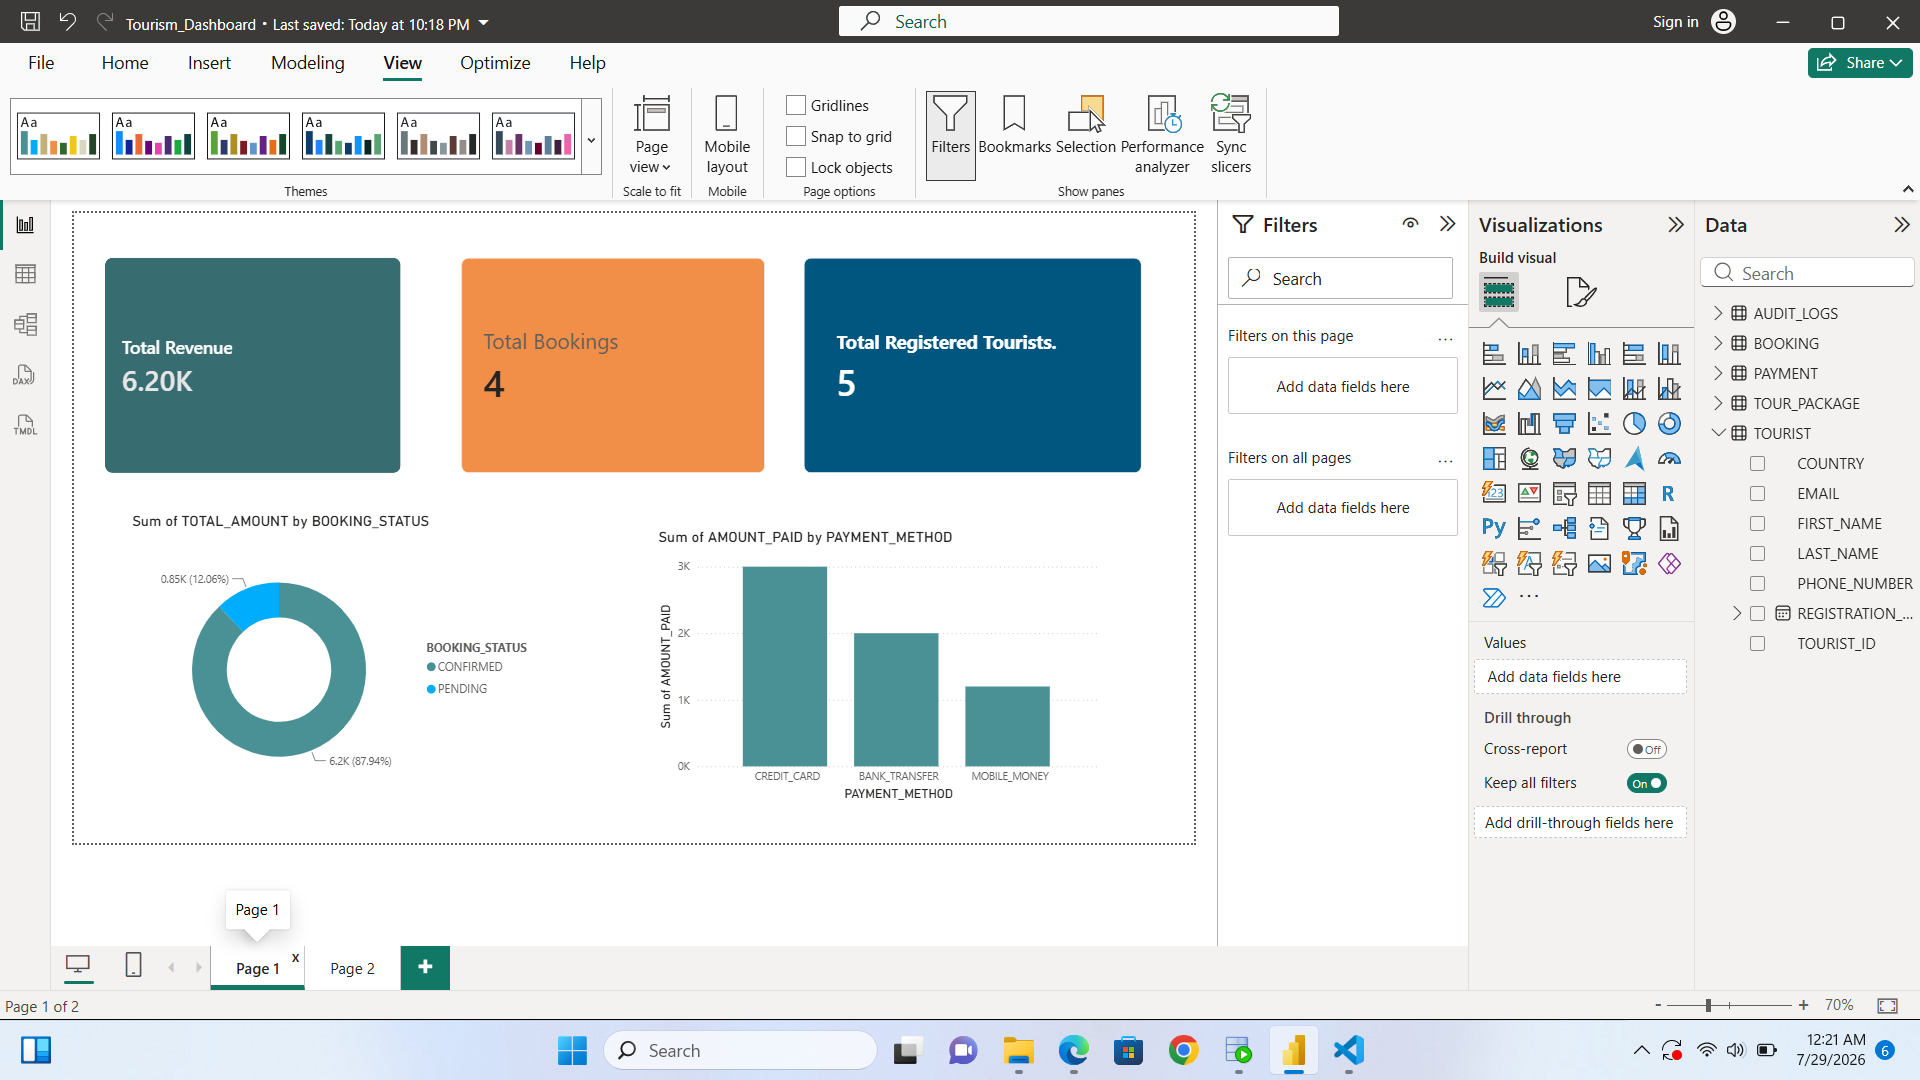

This screenshot's page, from the dashboard's own definition file:
{"tool":"powerbi","page":{"name":"Page 1","canvas":[1280,720],"ordinal":0},"visuals":[{"type":"cardVisual","fields":{"Data":["Sum(PAYMENT.AMOUNT_PAID)"]},"box":[18.6,34.3,372.9,280],"z":0},{"type":"donutChart","fields":{"Category":["BOOKING.BOOKING_STATUS"],"Y":["Sum(BOOKING.TOTAL_AMOUNT)"]},"box":[61.4,341.4,476.2,330.7],"z":1000},{"type":"cardVisual","fields":{"Data":["CountNonNull(BOOKING.BOOKING_ID)"]},"box":[425.7,34.3,381.4,280],"z":2000},{"type":"cardVisual","fields":{"Data":["CountNonNull(TOURIST.TOURIST_ID)"]},"box":[817.1,34.3,420,280],"z":3000},{"type":"clusteredColumnChart","fields":{"Category":["PAYMENT.PAYMENT_METHOD"],"Y":["Sum(PAYMENT.AMOUNT_PAID)"]},"box":[662.9,360,513.8,316.2],"z":4000}]}

Visuals, with their boxes on the page's 1280x720 design canvas (x1, y1, x2, y2). These are canvas units, not pixel positions in the 1920x1080 screenshot, which may show the page scaled, cropped or inside an application window:
cardVisual - Sum(PAYMENT.AMOUNT_PAID): <region>19, 34, 392, 314</region>
donutChart - BOOKING.BOOKING_STATUS x Sum(BOOKING.TOTAL_AMOUNT): <region>61, 341, 538, 672</region>
cardVisual - CountNonNull(BOOKING.BOOKING_ID): <region>426, 34, 807, 314</region>
cardVisual - CountNonNull(TOURIST.TOURIST_ID): <region>817, 34, 1237, 314</region>
clusteredColumnChart - PAYMENT.PAYMENT_METHOD x Sum(PAYMENT.AMOUNT_PAID): <region>663, 360, 1177, 676</region>
